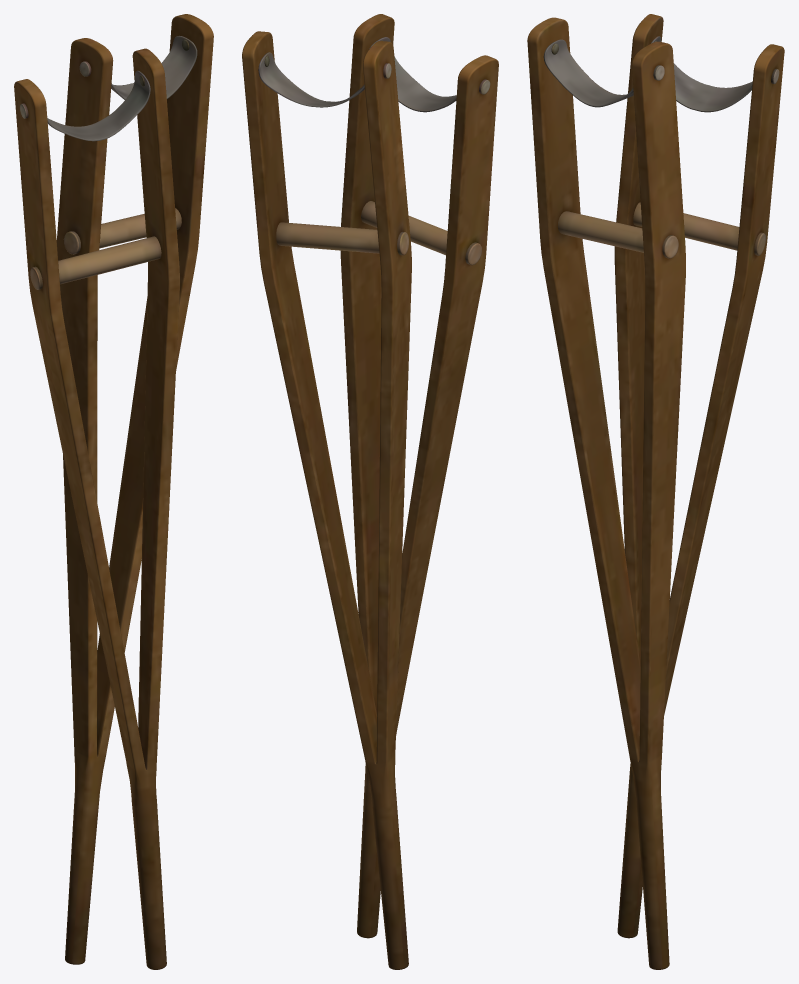
File: vintage_crutches_01.glb
3 renders of one model, left to right at view 1: azimuth 30°, elevation 25°; view 2: azimuth 150°, elevation 25°; view 3: azimuth 330°, elevation 25°, orthographic.
Visible parts, largest first — view 1: vintage_crutches_01_mesh; view 2: vintage_crutches_01_mesh; view 3: vintage_crutches_01_mesh.
Boxes of the visible parts, x1=… form: vintage_crutches_01_mesh: x1=14, y1=14, x2=213, y2=969; vintage_crutches_01_mesh: x1=242, y1=14, x2=498, y2=969; vintage_crutches_01_mesh: x1=527, y1=14, x2=784, y2=969.
Bounding box in the file's own units: 0.3837 × 1.61 × 0.2036.
Materials: 1 (1 with a texture image).
